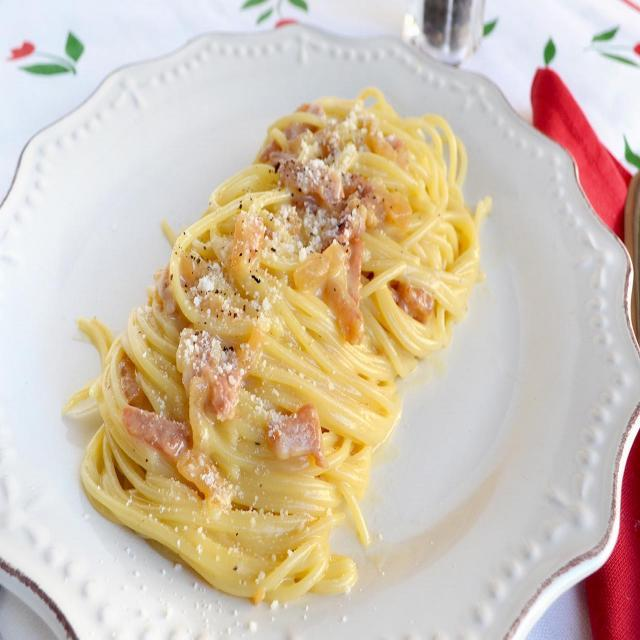Pasta with carbonara sauce: (49, 83, 533, 601)
